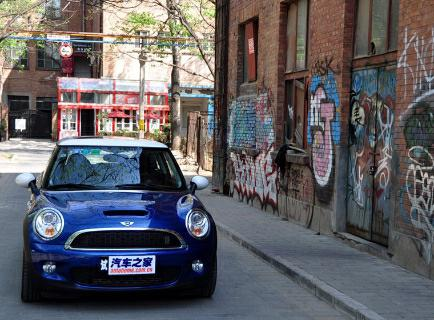MINI: (16, 135, 219, 309)
